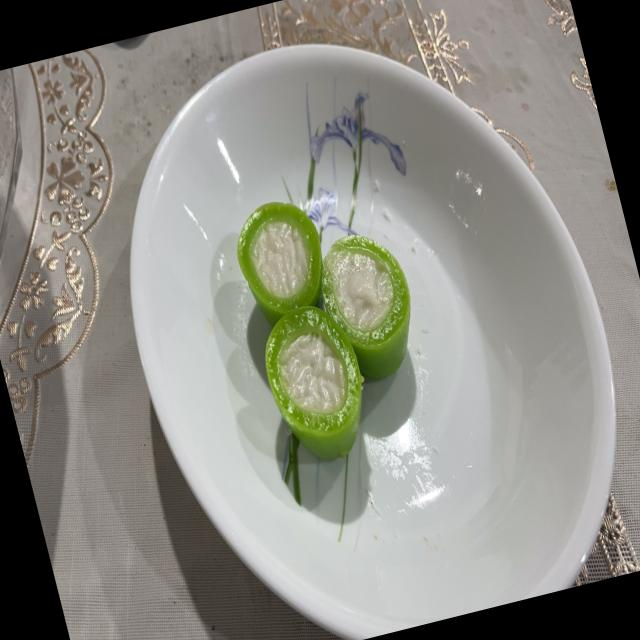nona-manis: (265, 305, 362, 460), (321, 234, 410, 379), (237, 201, 323, 325)
